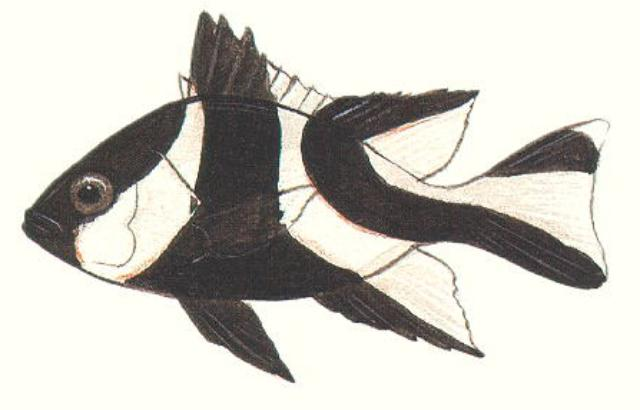Mulut: (5, 184, 76, 258)
Sirip Anal: (314, 248, 490, 370)
Sirip Dada: (180, 182, 340, 272)
Sirip Ekor: (470, 112, 618, 300)
Sirip Perut: (180, 289, 304, 395)
Sirip Punggung: (170, 4, 486, 180)
